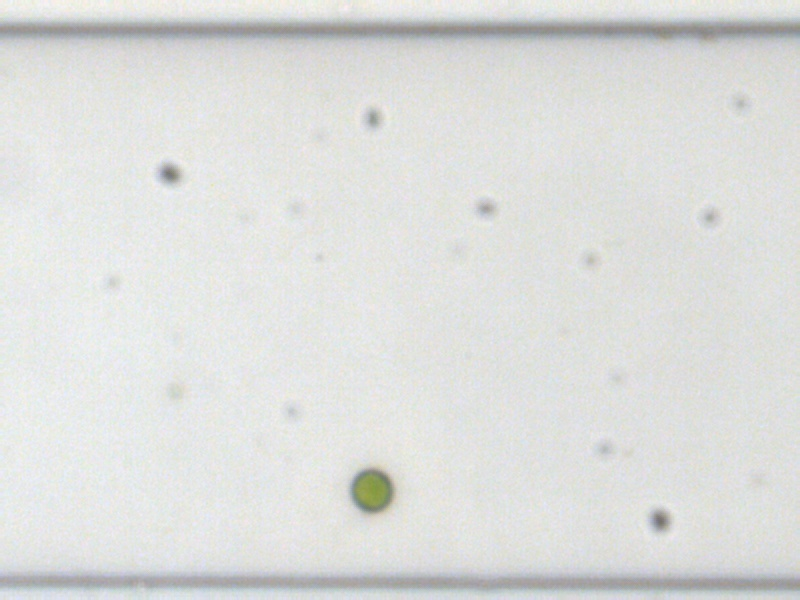Platymonas: (346, 469, 394, 511)
